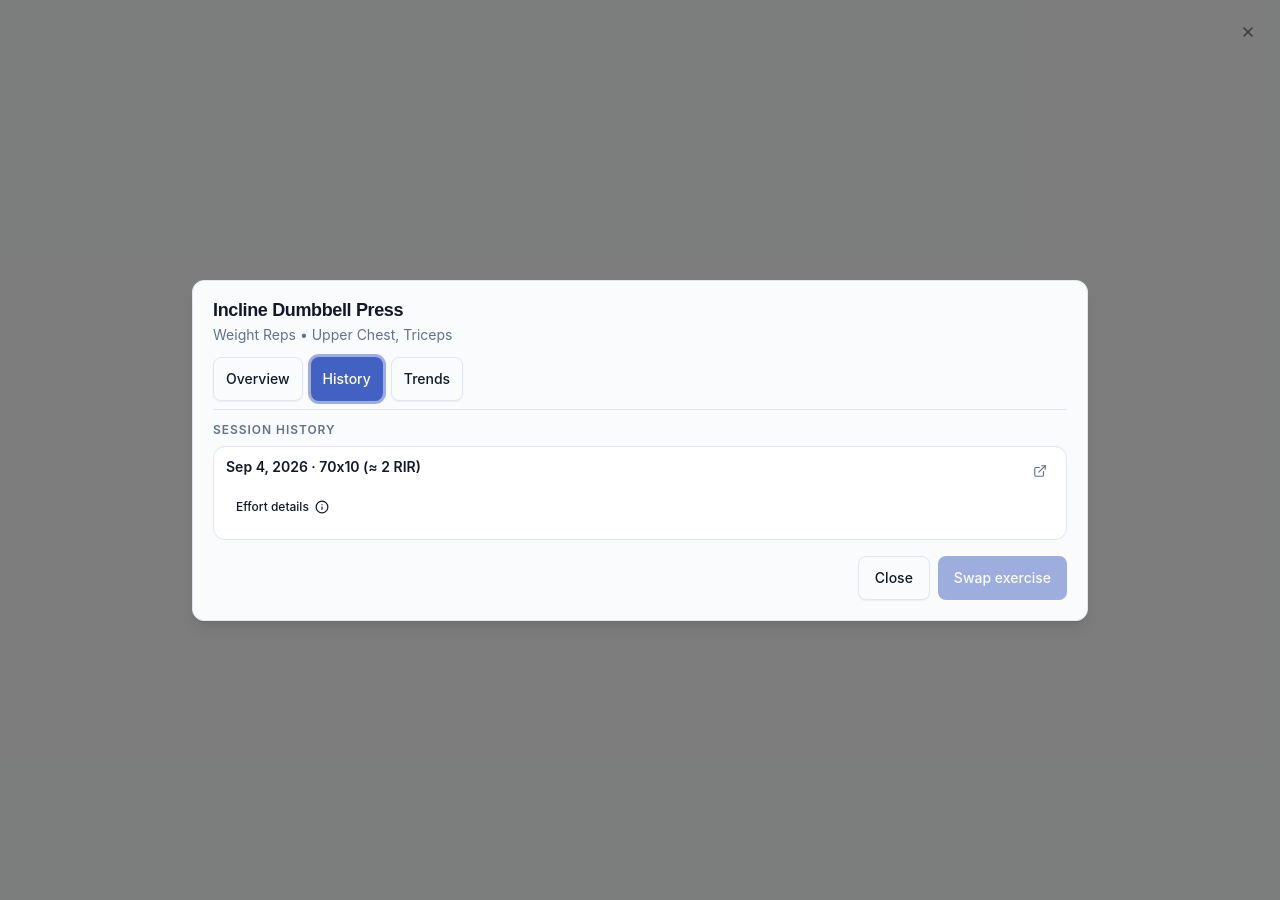
Test: exposes approximate history and original RPE inside the exercise dialog
Expected: the text "Sep 4, 2026 · 70x10 (≈ 2 RIR)" is shown, x1=226 y1=456 x2=421 y2=476
What coordinates should you click on to do the following:
click the button with aria-label "Effort details: Session history, 2026-09-04"
I would click on:
 (282, 506)
Its box is x1=226 y1=484 x2=339 y2=528.
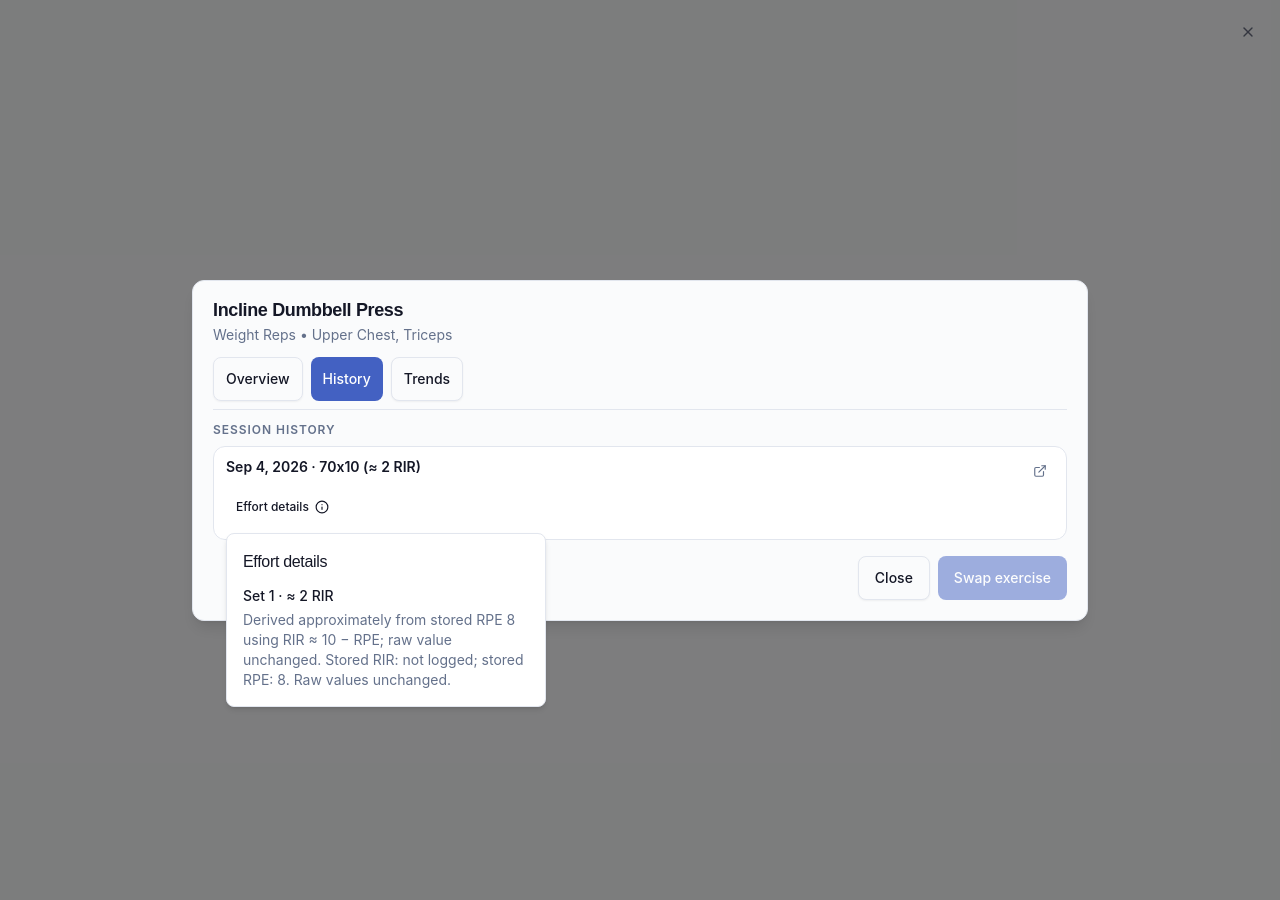
Expected: the dialog "Effort details" shows "Derived approximately from stored RPE 8", x1=243 y1=611 x2=524 y2=688
